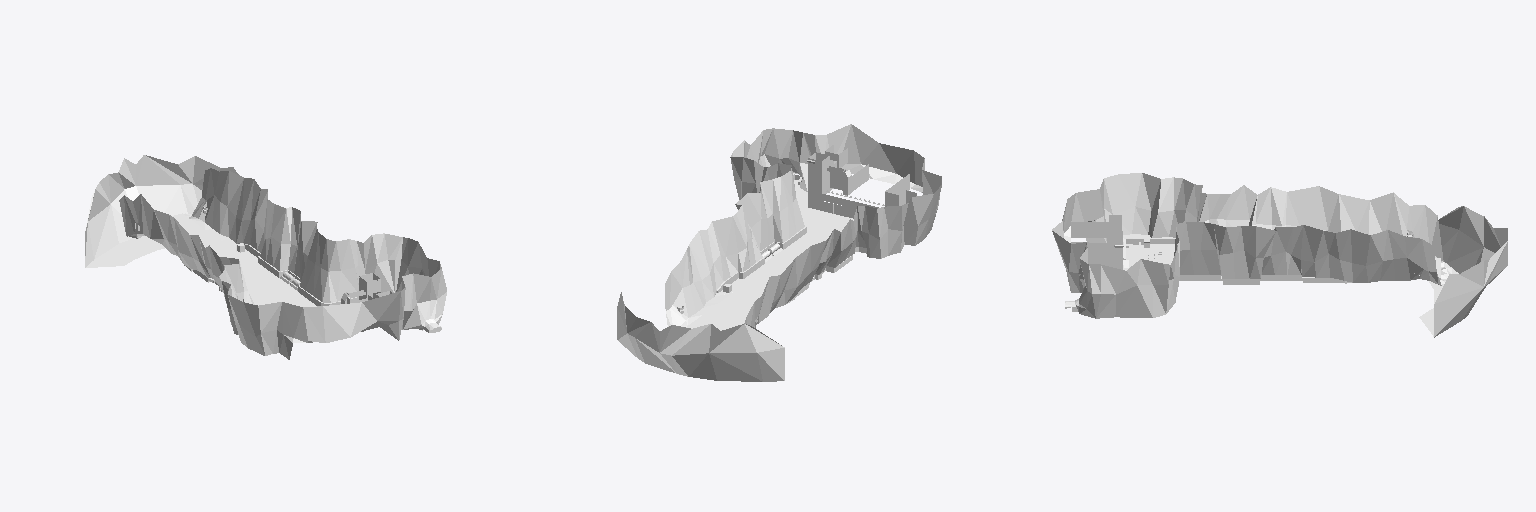
Rendered from runway.obj.
3 renders of one model, left to right at view 1: azimuth 30°, elevation 25°; view 2: azimuth 150°, elevation 25°; view 3: azimuth 270°, elevation 25°, orthographic.
Parts seen in each view (by area): view 1: LevelIndices; view 2: LevelIndices; view 3: LevelIndices.
Part boxes in pixels (x1,y1,x2,y2): LevelIndices: (85, 155, 446, 359); LevelIndices: (617, 124, 941, 381); LevelIndices: (1052, 173, 1507, 337).
Size of the model in its own units: 1335 by 599 by 2707.